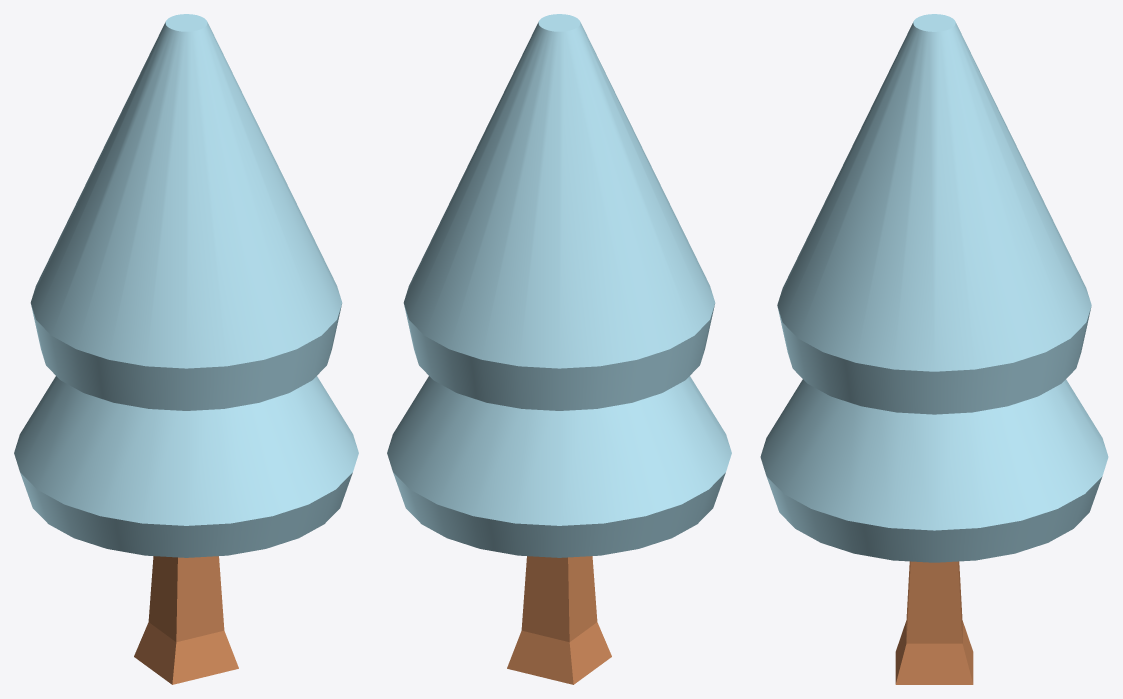
Rendered from treePineSnow.obj.
3 renders of one model, left to right at view 1: azimuth 30°, elevation 25°; view 2: azimuth 150°, elevation 25°; view 3: azimuth 270°, elevation 25°, orthographic.
Visible parts, largest first — view 1: treePineSnow; view 2: treePineSnow; view 3: treePineSnow.
Boxes of the visible parts, x1,y1,x2,y2 form: treePineSnow: [14, 14, 358, 684]; treePineSnow: [387, 14, 731, 684]; treePineSnow: [760, 14, 1108, 684].
Bounding box in the file's own units: 0.9485 × 1.94 × 0.9485.
